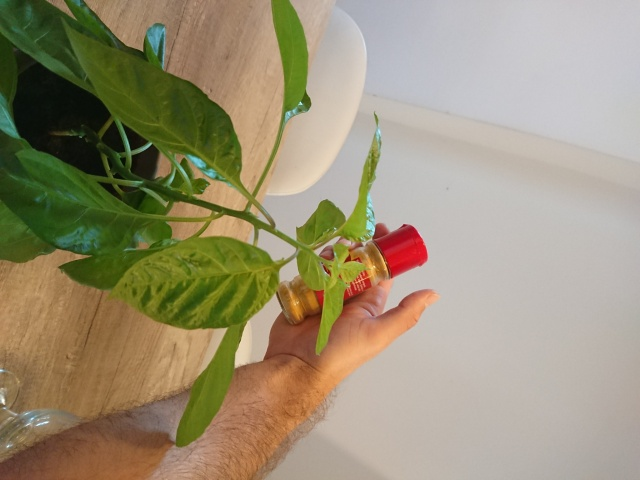Kotanyi Curry Spices Mix 70g: (274, 222, 431, 327)
